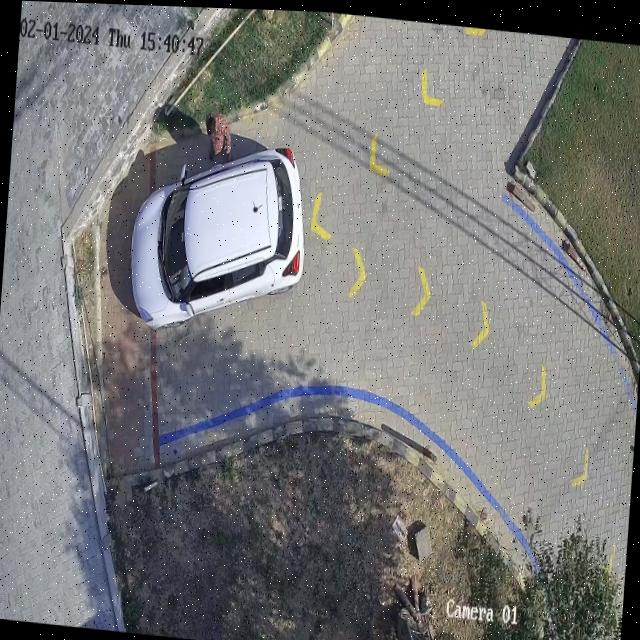car: (131, 145, 304, 327)
